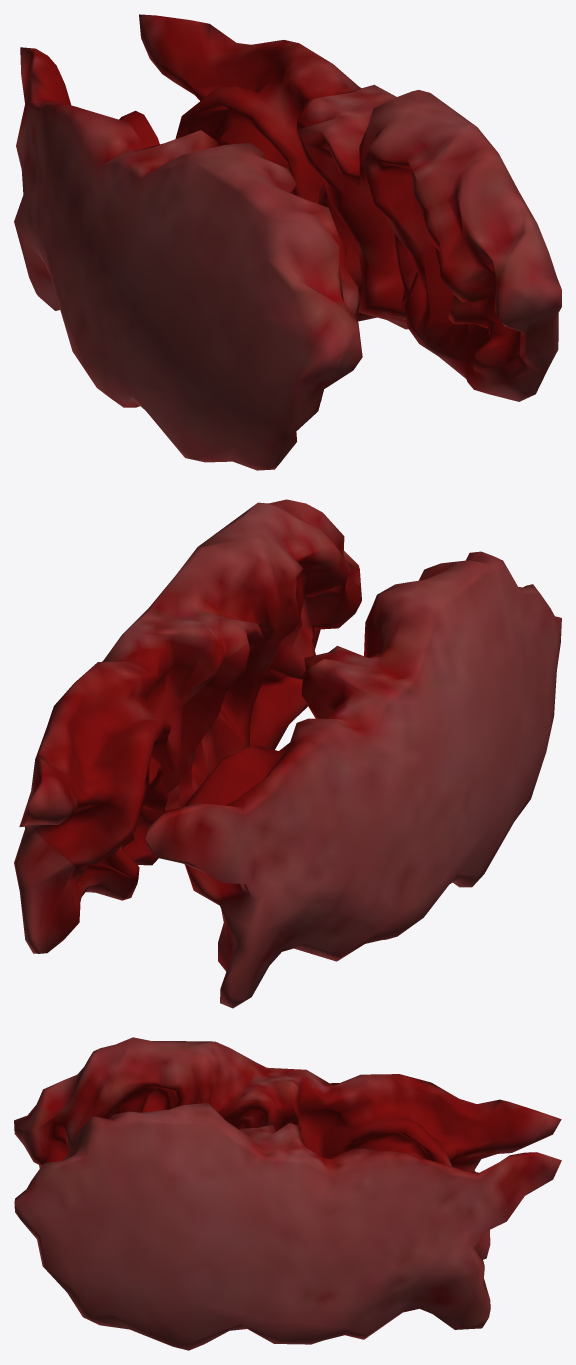
Rendered from Ethmoid_Turbinates.glb.
The picture shows the model from 3 angles, top to bottom: view 1: azimuth 30°, elevation 25°; view 2: azimuth 150°, elevation 25°; view 3: azimuth 270°, elevation 25°; orthographic projection. The views are drawn at different scales.
Parts seen in each view (by area): view 1: ethmoid_turbinates.002; view 2: ethmoid_turbinates.002; view 3: ethmoid_turbinates.002.
Boxes of the visible parts, <box> form: ethmoid_turbinates.002: <box>14,14,561,470</box>; ethmoid_turbinates.002: <box>14,499,561,1008</box>; ethmoid_turbinates.002: <box>14,1037,561,1350</box>.
Size of the model in its own units: 0.0598 by 0.05 by 0.1096.
1 material, 1 textured.
